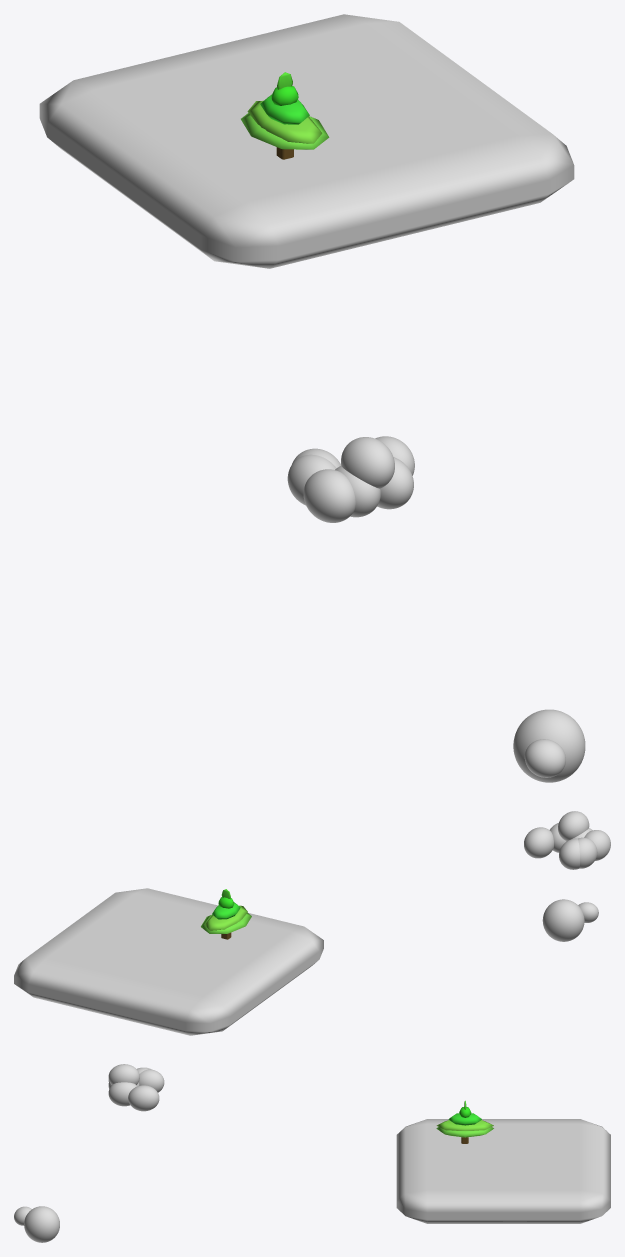
The model's file is colored.glb.
The picture shows the model from 3 angles, top to bottom: view 1: azimuth 30°, elevation 25°; view 2: azimuth 150°, elevation 25°; view 3: azimuth 270°, elevation 25°; orthographic projection. The views are drawn at different scales.
Parts seen in each view (by area): view 1: Cube.002, Sphere, Sphere 7.003, Sphere 10.003, Sphere.001, Sphere 4, Sphere 9.003, Sphere 11.003, Sphere.004; view 2: Cube.002, Sphere, Sphere 13.003, Sphere 10.003, Sphere 12.003, Sphere 11.003, Sphere 7.003, Sphere.001, Sphere.004; view 3: Cube.002, Sphere, Sphere 13.003, Sphere 10.003, Sphere 9.003, Sphere 12.003, Sphere.001, Sphere.004, Sphere.002.
Boxes of the visible parts, x1,y1,x2,y2 form: Cube.002: (39, 14, 574, 268); Sphere: (513, 709, 585, 782); Sphere 7.003: (303, 469, 355, 522); Sphere 10.003: (341, 437, 394, 488); Sphere.001: (247, 100, 322, 143); Sphere 4: (524, 739, 565, 777); Sphere 9.003: (377, 457, 413, 509); Sphere 11.003: (287, 454, 336, 505); Sphere.004: (241, 113, 329, 149); Cube.002: (14, 888, 323, 1035); Sphere: (542, 899, 584, 941); Sphere 13.003: (524, 827, 553, 858); Sphere 10.003: (558, 811, 589, 840); Sphere 12.003: (559, 838, 579, 869); Sphere 11.003: (578, 837, 597, 868); Sphere 7.003: (584, 830, 610, 860); Sphere.001: (205, 905, 247, 930); Sphere.004: (201, 913, 251, 933); Cube.002: (396, 1119, 610, 1223); Sphere: (24, 1206, 59, 1242); Sphere 13.003: (128, 1085, 159, 1111); Sphere 10.003: (108, 1064, 139, 1084); Sphere 9.003: (108, 1082, 137, 1106); Sphere 12.003: (139, 1069, 164, 1092); Sphere.001: (436, 1120, 493, 1130); Sphere.004: (436, 1127, 493, 1137); Sphere.002: (448, 1113, 481, 1125).
Bounding box in the file's own units: 18.73 × 11.45 × 34.53.
